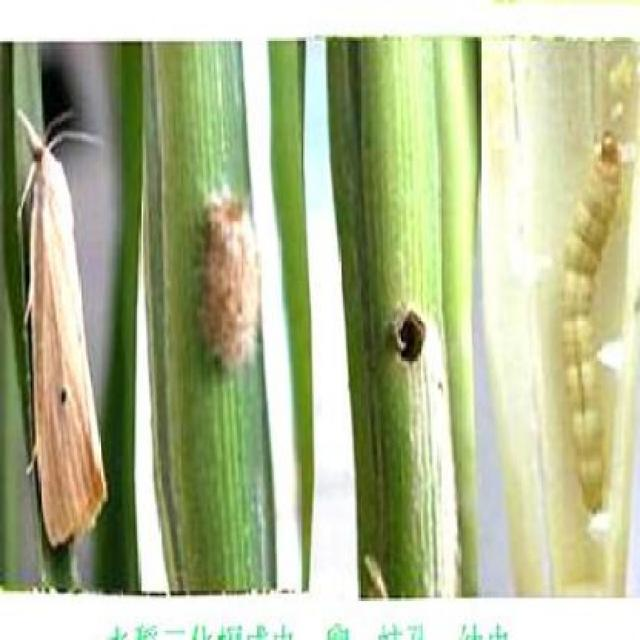stem-borer: (12, 102, 111, 550)
